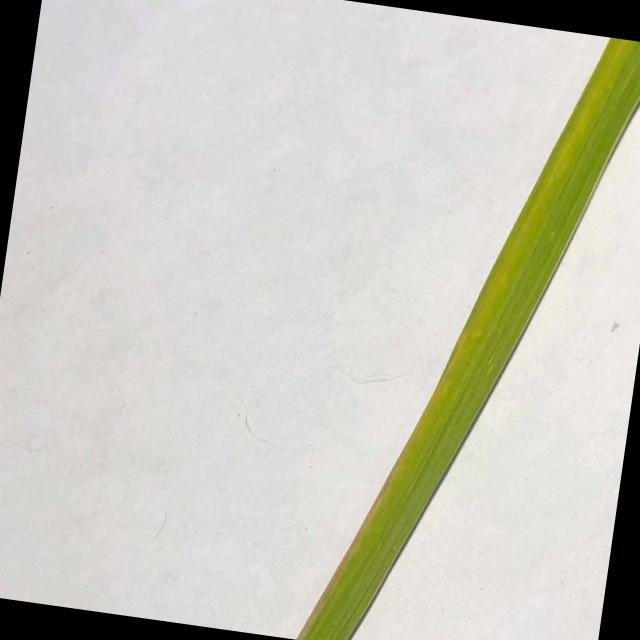Rice_Healthy: (297, 38, 640, 640)
